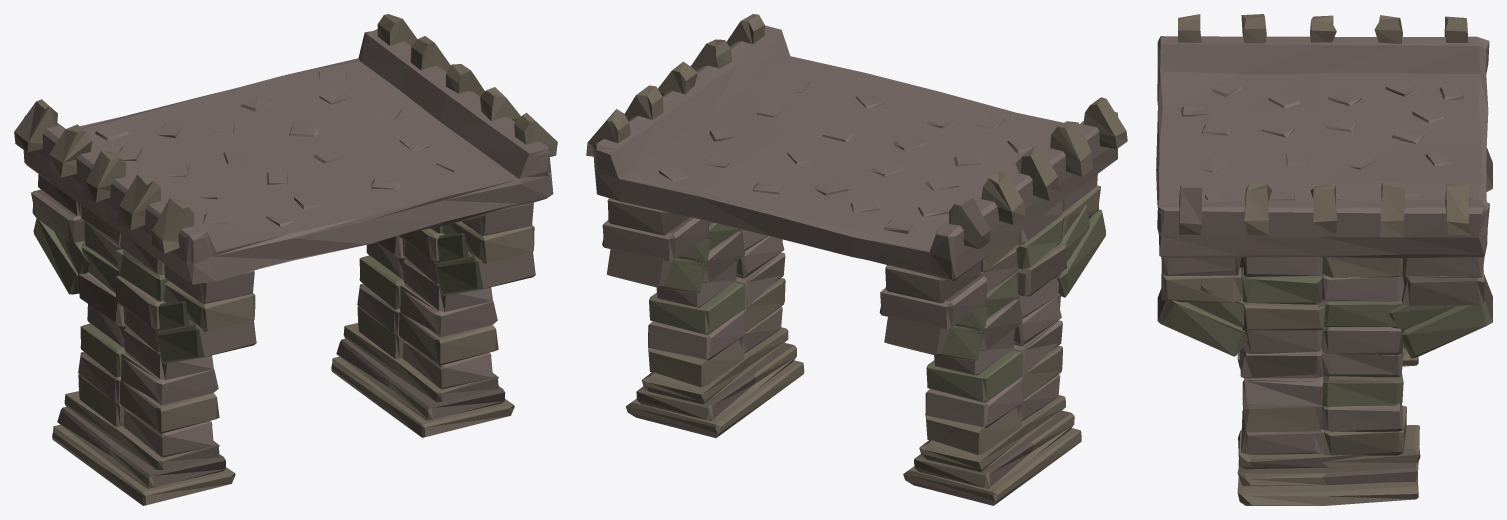
The model's file is sinchik97_Castle Bridge 1.fbx.
3 views of the same model, side by side, from view 1: azimuth 30°, elevation 25°; view 2: azimuth 150°, elevation 25°; view 3: azimuth 270°, elevation 25° (orthographic).
Parts seen in each view (by area): view 1: Object029, Object055, Object026, Object025, Object054, Object046, Object017, Object001, Object030, Object027, Object056, Object004 (+33 smaller); view 2: Object029, Object026, Object055, Object054, Object025, Object041, Object011, Object040, Object032, Object012, Object003, Object031 (+29 smaller); view 3: Object029, Object025, Object026, Object027, Object011, Object017, Object012, Object003, Object016, Object001, Object013, Object008 (+16 smaller).
Part boxes in pixels (<box>): Object029: <box>14,14,557,284</box>; Object055: <box>57,406,225,488</box>; Object026: <box>336,338,505,420</box>; Object025: <box>331,356,514,437</box>; Object054: <box>52,424,235,505</box>; Object046: <box>155,320,256,363</box>; Object017: <box>435,252,535,295</box>; Object001: <box>399,312,498,365</box>; Object030: <box>119,380,219,433</box>; Object027: <box>343,323,498,401</box>; Object056: <box>64,391,219,469</box>; Object004: <box>400,285,497,337</box>; Object029: <box>586,14,1127,281</box>; Object026: <box>636,343,796,420</box>; Object055: <box>914,410,1074,488</box>; Object054: <box>903,428,1081,505</box>; Object025: <box>625,360,804,437</box>; Object041: <box>879,275,986,329</box>; Object011: <box>606,248,705,292</box>; Object040: <box>884,316,983,360</box>; Object032: <box>926,349,1022,402</box>; Object012: <box>602,217,709,261</box>; Object003: <box>649,281,745,334</box>; Object031: <box>925,377,1023,428</box>; Object029: <box>1156,14,1489,258</box>; Object025: <box>1237,460,1418,505</box>; Object026: <box>1237,462,1418,486</box>; Object027: <box>1238,425,1420,469</box>; Object011: <box>1402,274,1492,358</box>; Object017: <box>1157,288,1247,356</box>; Object012: <box>1402,266,1484,305</box>; Object003: <box>1321,372,1403,406</box>; Object016: <box>1242,267,1322,304</box>; Object001: <box>1242,380,1322,432</box>; Object013: <box>1244,300,1325,330</box>; Object008: <box>1322,326,1403,355</box>.
Bounding box in the file's own units: 441 × 344 × 330.
1 material, 1 textured.
